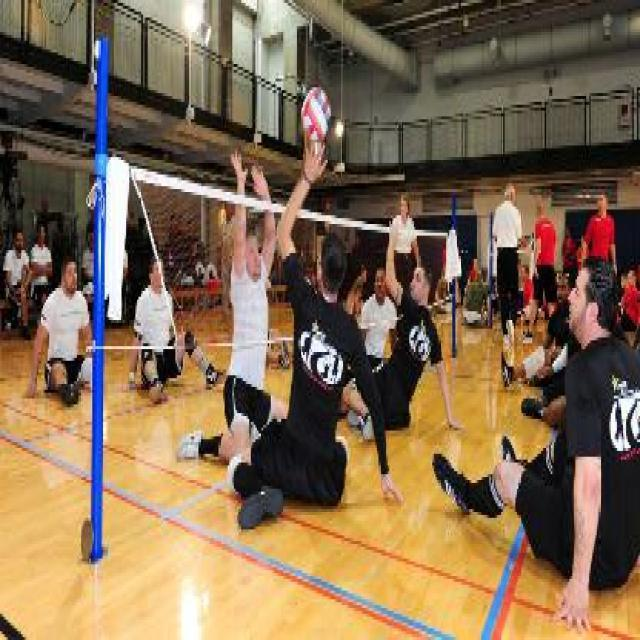volleyball: (252, 86, 332, 140)
